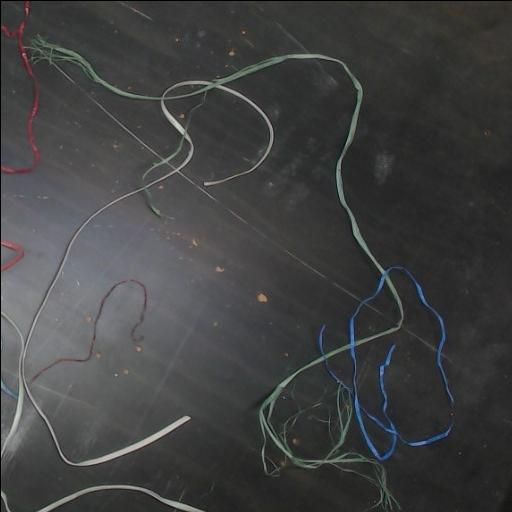conveyor belt: (25, 1, 512, 512), (1, 61, 179, 329)
thread: (40, 43, 453, 474), (1, 61, 377, 512), (19, 178, 189, 465), (31, 279, 147, 383), (1, 1, 38, 172), (32, 484, 207, 512), (1, 310, 24, 460), (277, 53, 344, 65), (1, 490, 13, 512), (1, 379, 14, 395)
